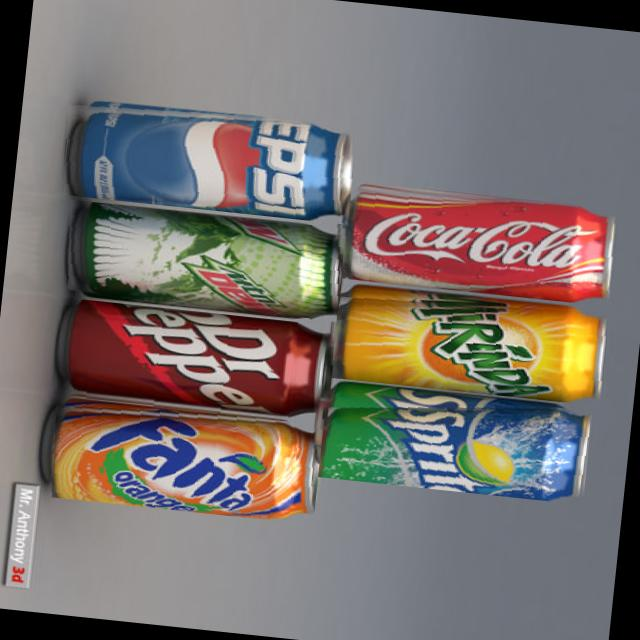Cans: (58, 92, 357, 225), (334, 177, 628, 307), (45, 391, 323, 524), (306, 378, 596, 505), (52, 296, 330, 426), (328, 284, 621, 407), (58, 198, 344, 322)
